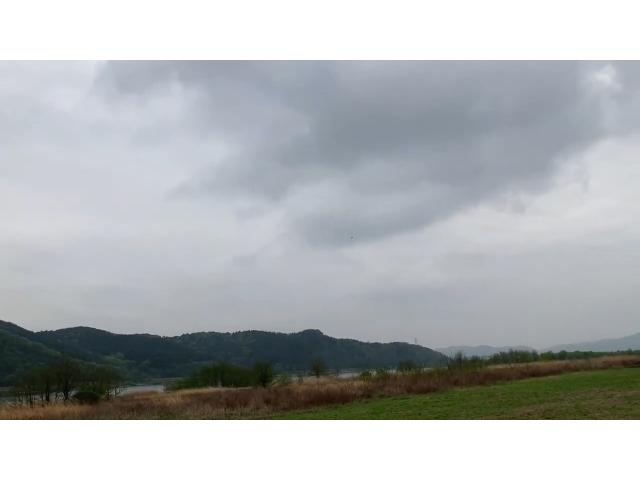Anti-Drone: (344, 232, 358, 242)
